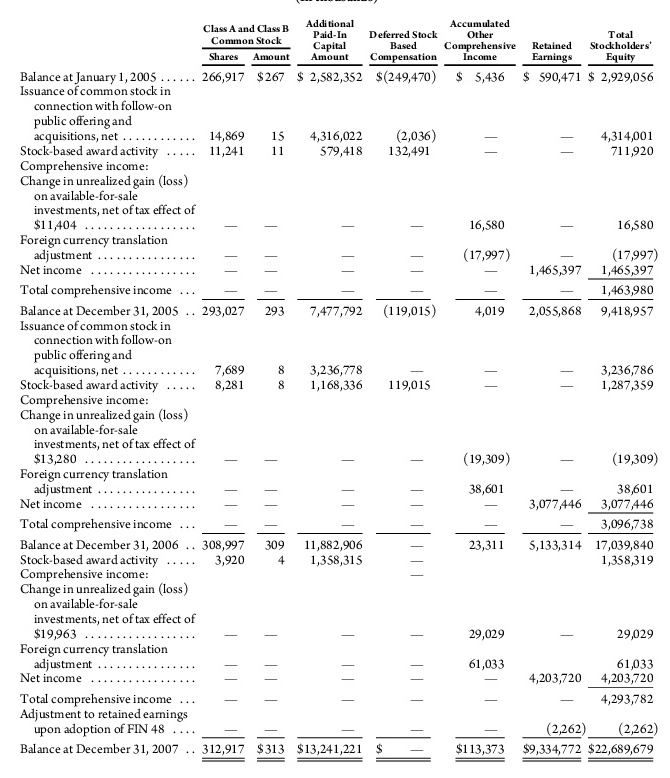table: (0, 0, 670, 778)
